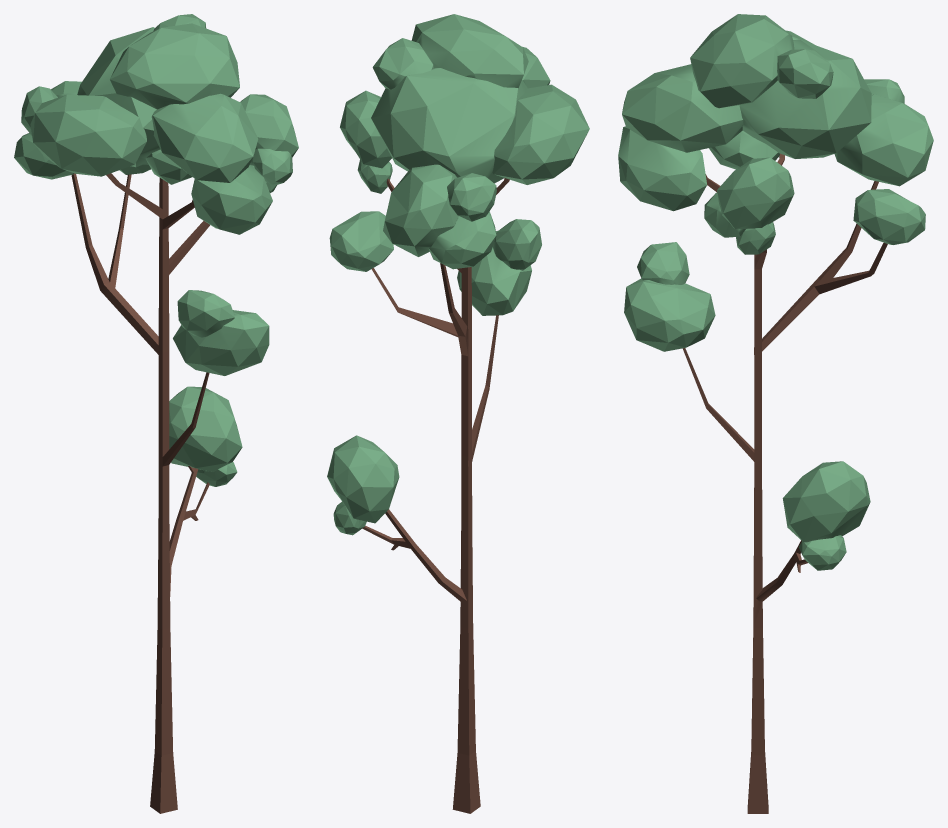
File: sapling2Grouped.fbx
3 renders of one model, left to right at view 1: azimuth 30°, elevation 25°; view 2: azimuth 150°, elevation 25°; view 3: azimuth 270°, elevation 25°, orthographic.
Parts seen in each view (by area): view 1: branch, leaves; view 2: branch, leaves; view 3: branch, leaves.
Boxes of the visible parts, x1=… form: branch: x1=14, y1=14, x2=298, y2=486; leaves: x1=71, y1=173, x2=209, y2=813; branch: x1=327, y1=14, x2=589, y2=535; leaves: x1=362, y1=178, x2=509, y2=813; branch: x1=618, y1=14, x2=933, y2=570; leaves: x1=682, y1=153, x2=887, y2=813.
Size of the model in its own units: 6.63 by 20.36 by 7.37.
